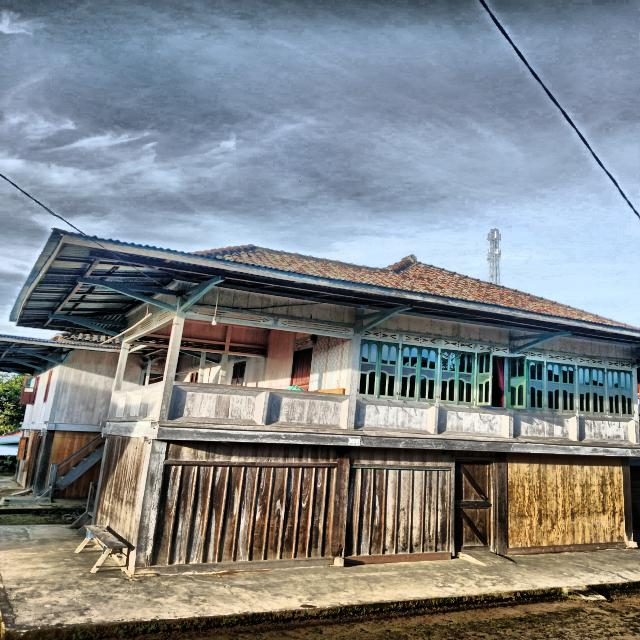column: (129, 437, 168, 567), (331, 445, 350, 557), (491, 452, 507, 556), (621, 457, 638, 548)
door: (455, 460, 493, 551), (291, 348, 313, 392)
roof: (10, 229, 640, 346), (0, 334, 119, 375)
stair: (36, 434, 106, 500), (67, 482, 98, 534)
wall: (152, 440, 338, 565), (354, 314, 511, 442), (514, 336, 636, 448), (344, 446, 451, 557), (506, 452, 625, 549), (225, 329, 350, 390), (96, 435, 146, 547), (54, 349, 120, 425), (45, 431, 102, 488), (20, 360, 60, 423), (54, 458, 102, 498)
window: (168, 385, 265, 425), (265, 392, 349, 429), (477, 351, 526, 409), (354, 399, 435, 434), (356, 339, 400, 399), (399, 343, 439, 403), (437, 406, 509, 438), (438, 348, 476, 405), (513, 412, 576, 441), (579, 416, 636, 444), (515, 360, 545, 411), (547, 362, 576, 413), (578, 366, 607, 415), (607, 369, 634, 417), (139, 385, 162, 420), (20, 375, 40, 405), (124, 389, 143, 420), (109, 393, 127, 420), (231, 361, 247, 386), (43, 369, 53, 402), (190, 371, 199, 383)
